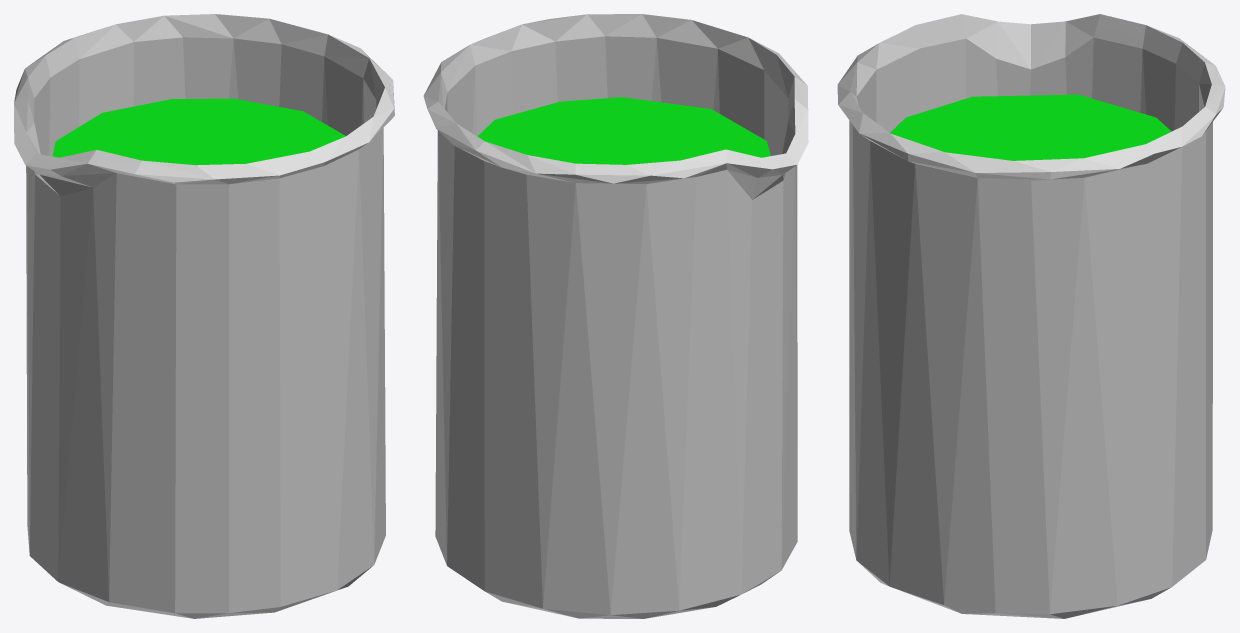
Rendered from Beaker.fbx.
3 renders of one model, left to right at view 1: azimuth 30°, elevation 25°; view 2: azimuth 150°, elevation 25°; view 3: azimuth 270°, elevation 25°, orthographic.
Visible parts, largest first — view 1: flask_2, solution_2; view 2: flask_2, solution_2; view 3: flask_2, solution_2.
Boxes of the visible parts, x1=… form: flask_2: x1=14, y1=14, x2=394, y2=618; solution_2: x1=52, y1=98, x2=345, y2=165; flask_2: x1=423, y1=14, x2=808, y2=618; solution_2: x1=477, y1=97, x2=770, y2=164; flask_2: x1=837, y1=14, x2=1225, y2=618; solution_2: x1=890, y1=94, x2=1171, y2=160.
Size of the model in its own units: 0.1068 by 0.1355 by 0.1026.
